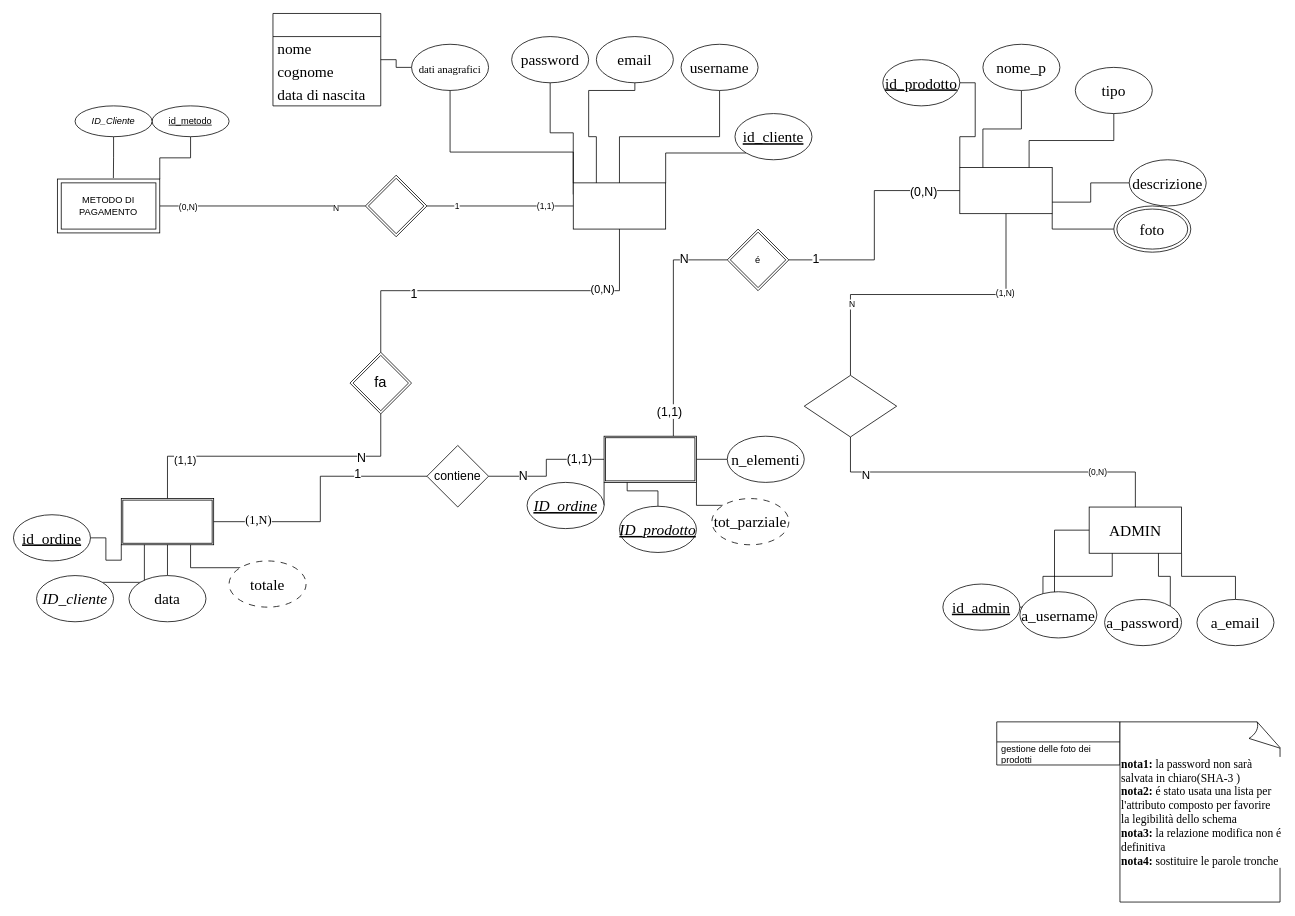
This 1295x916 diagram has some shape labels left out. Here are the shapes that lost their labels. From the top down, the box of each, then its label:
(272, 13, 381, 106): composto
(365, 174, 427, 237): Ha
(572, 182, 666, 229): CLIENTE
(959, 167, 1052, 214): PRODOTTO
(803, 375, 897, 437): modifica
(603, 435, 696, 482): ELEMENTI
(121, 498, 214, 545): ORDINE
(996, 721, 1120, 765): vincolo non esprimibile
